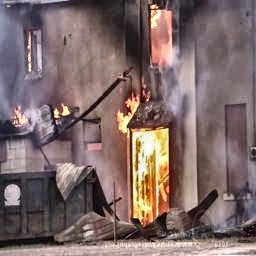fire: (128, 125, 168, 220), (151, 3, 175, 65)
